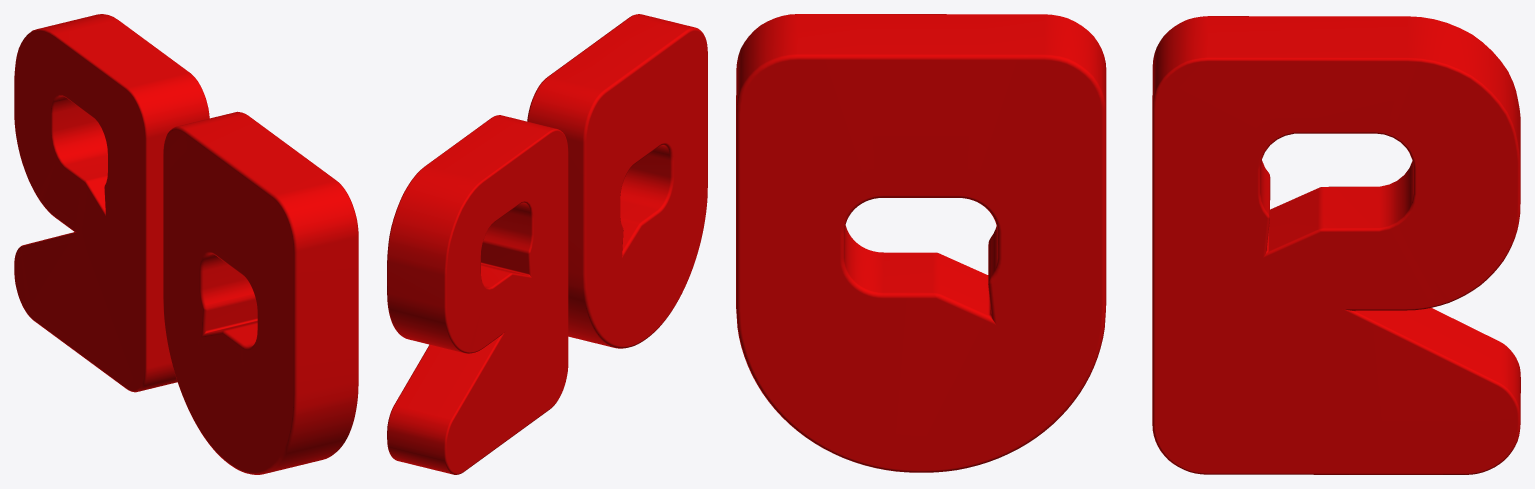
3 views of the same model, side by side, from view 1: azimuth 30°, elevation 25°; view 2: azimuth 150°, elevation 25°; view 3: azimuth 270°, elevation 25° (orthographic). The views are drawn at different scales.
Visible parts, largest first — view 1: UR_Logo; view 2: UR_Logo; view 3: UR_Logo.
Boxes of the visible parts, x1,y1,x2,y2 form: UR_Logo: (14,14,358,474); UR_Logo: (387,14,707,474); UR_Logo: (736,14,1520,474).
Size of the model in its own units: 0.4315 by 1.87 by 3.18.
